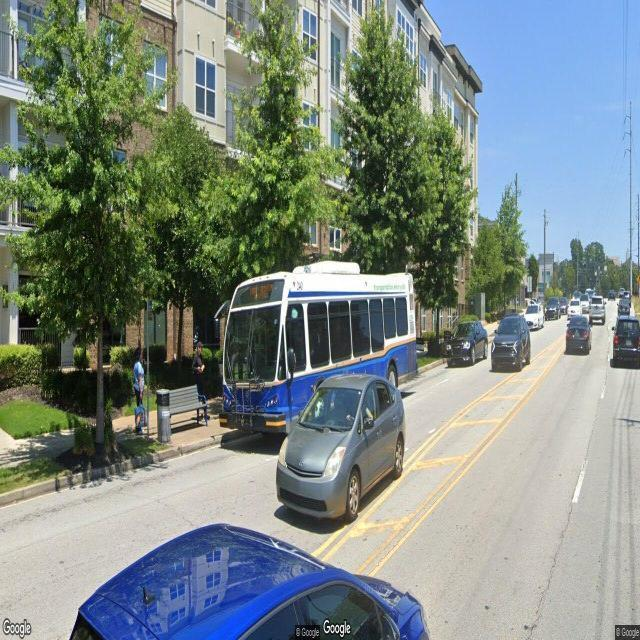seating: (169, 384, 208, 436)
trash_can: (156, 388, 170, 444)
